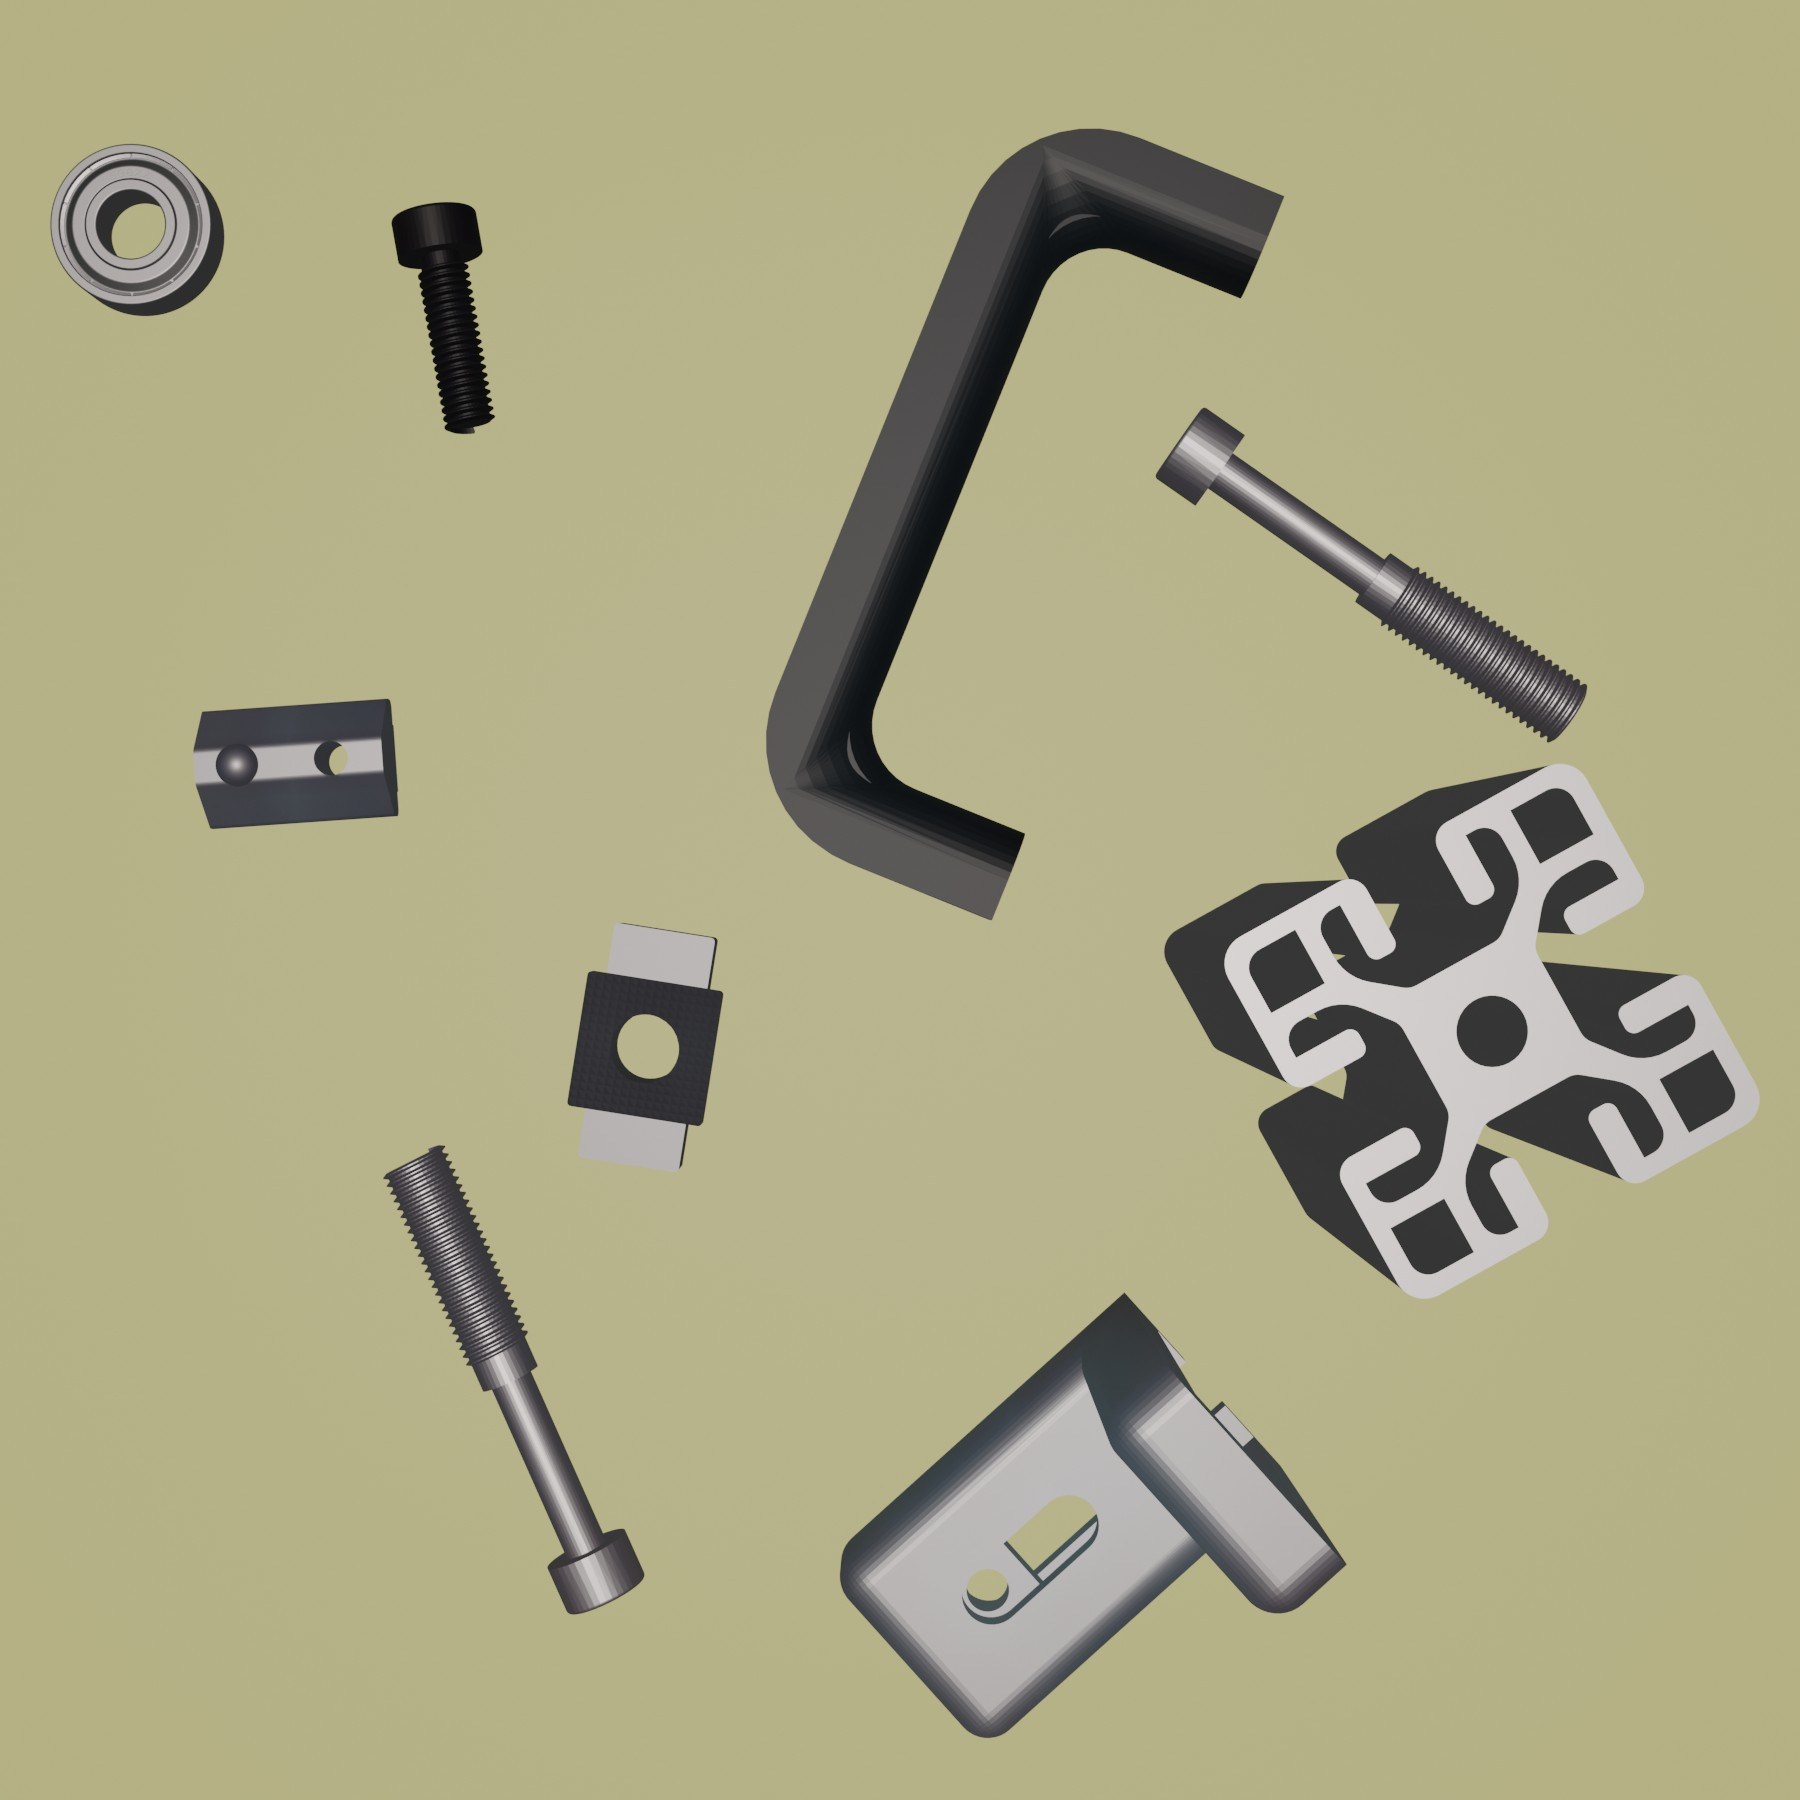Aluminium Extension: (1162, 758, 1762, 1309)
Ball Bearing: (48, 138, 227, 318)
Multiwinkel: (837, 1289, 1352, 1739)
Pull Handle: (763, 124, 1287, 921)
Shoulder Socket Head Cap Screw: (1154, 405, 1591, 743), (377, 1137, 646, 1619)
Socket Head Cap Screw: (387, 198, 496, 438)
T Nut Square: (562, 915, 729, 1172)
T Spring Nut: (188, 692, 402, 832)
